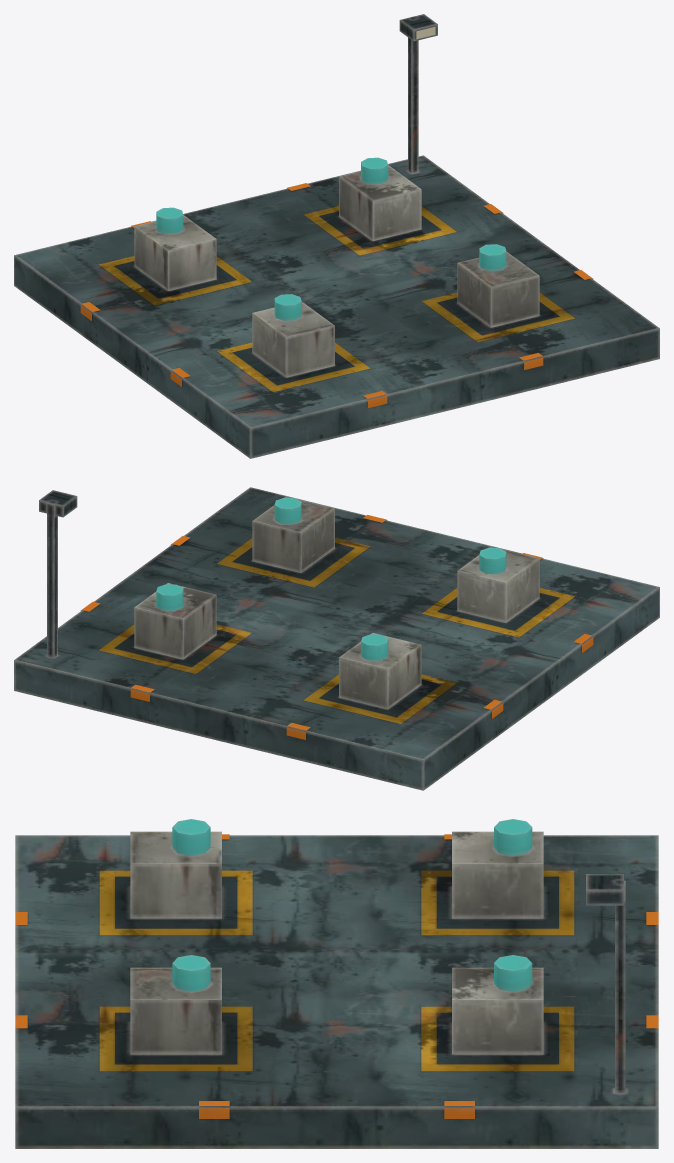
Rendered from robot_bay.glb.
The picture shows the model from 3 angles, top to bottom: view 1: azimuth 30°, elevation 25°; view 2: azimuth 150°, elevation 25°; view 3: azimuth 270°, elevation 25°; orthographic projection. The views are drawn at different scales.
Parts seen in each view (by area): view 1: te_robot_bay; view 2: te_robot_bay; view 3: te_robot_bay.
Part boxes in pixels (x1=…): te_robot_bay: x1=14, y1=14, x2=659, y2=458; te_robot_bay: x1=14, y1=487, x2=659, y2=790; te_robot_bay: x1=15, y1=819, x2=658, y2=1148.
Size of the model in its own units: 0.8436 by 0.361 by 0.8436.
Materials: 1 (1 with a texture image).
